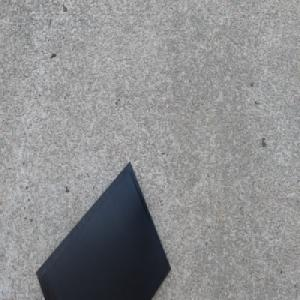PlasticPart: (35, 159, 171, 300)
